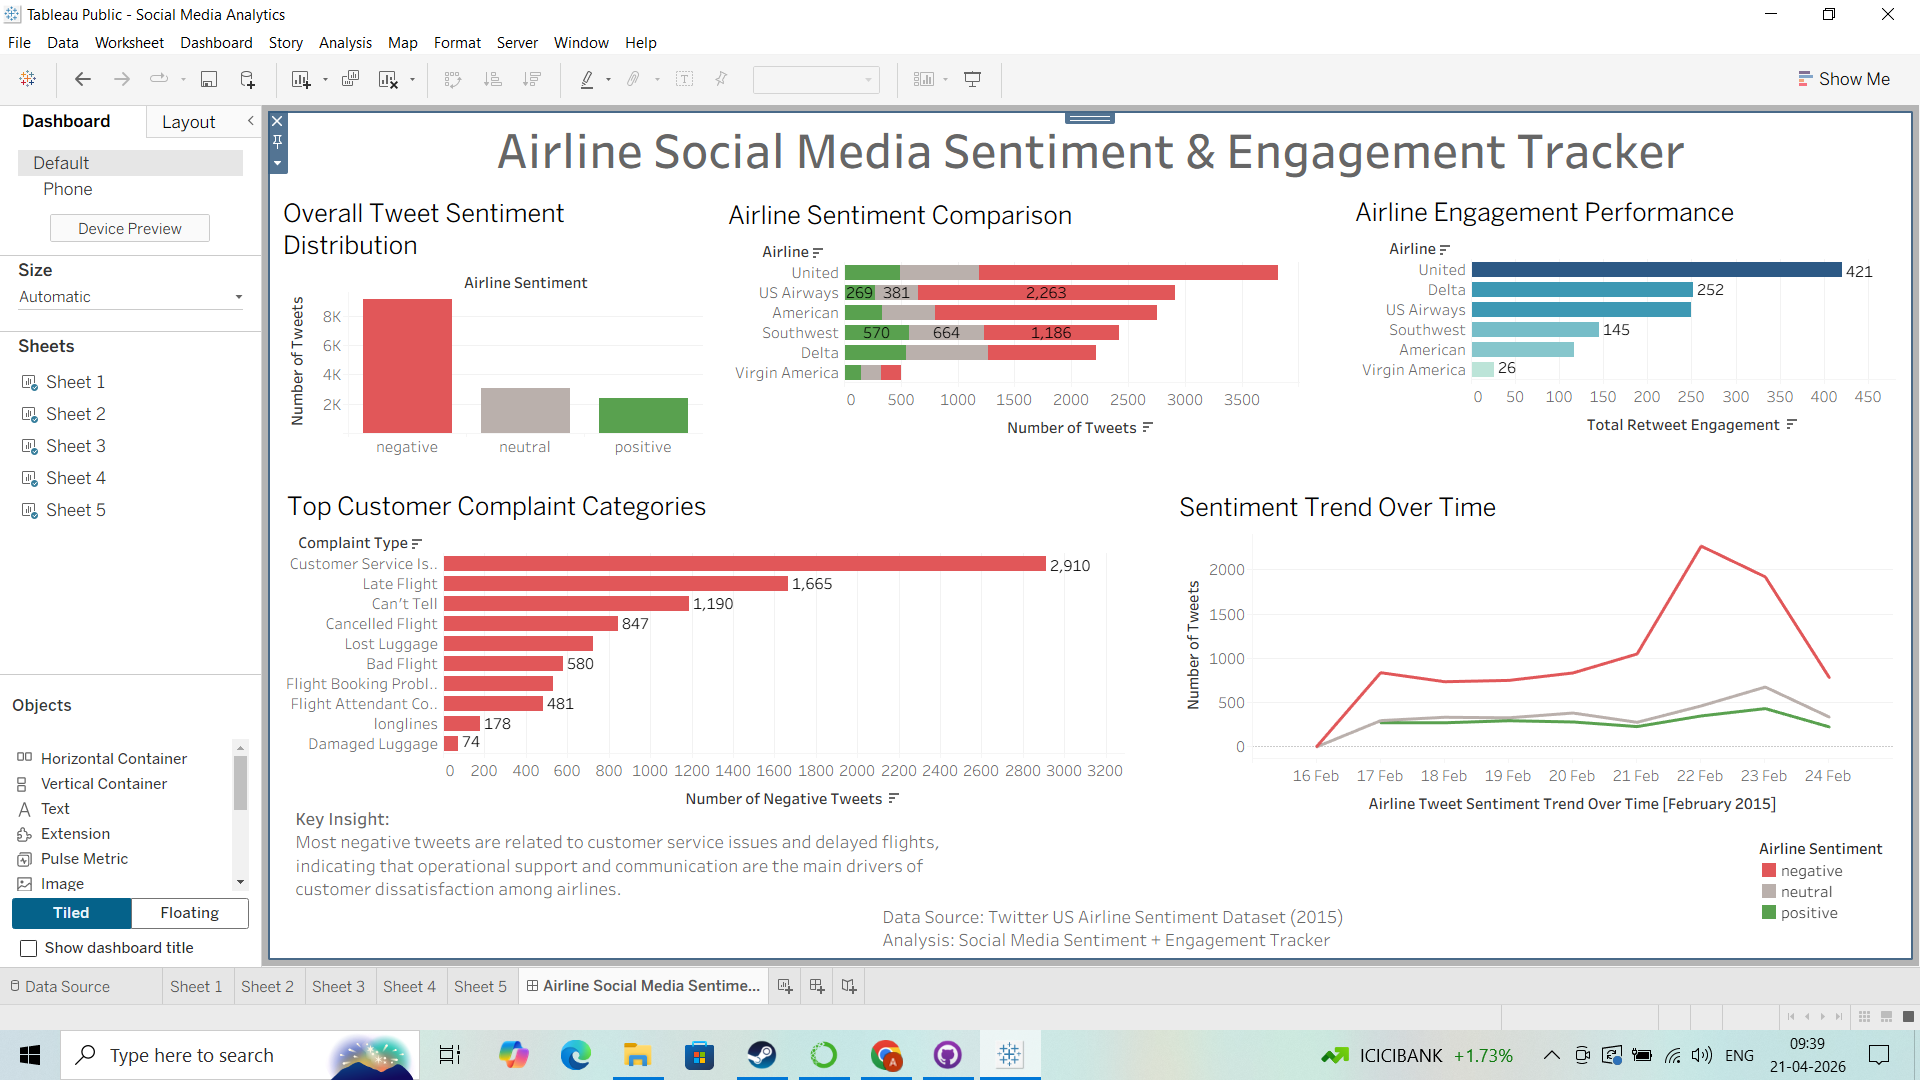

What the dashboard file says about the page in this screenshot:
{"tool":"tableau","page":{"name":"Airline Social Media Sentiment Dashboard","canvas":[1000,1000],"units":"permille","ordinal":0},"visuals":[{"type":"text","box":[139.4,10.5,725.4,82.5]},{"type":"worksheet","title":"Sheet 5","mark":"Automatic","rows":["airline"],"cols":["retweet_count"],"box":[657,101,329.1,322.9]},{"type":"worksheet","title":"Sheet 1","mark":"Automatic","rows":["final_airline_sentiment_dataset.csv_C5E6F2089A874854BD9A631C"],"cols":["airline_sentiment"],"box":[10.3,102.2,255.9,307.8]},{"type":"worksheet","title":"Sheet 2","mark":"Automatic","rows":["airline"],"cols":["final_airline_sentiment_dataset.csv_C5E6F2089A874854BD9A631C"],"box":[278.9,104.5,347.9,317.1]},{"type":"worksheet","title":"Sheet 3","mark":"Automatic","rows":["negativereason"],"cols":["final_airline_sentiment_dataset.csv_C5E6F2089A874854BD9A631C"],"box":[12.7,442.5,508.2,440.2]},{"type":"worksheet","title":"Sheet 4","mark":"Automatic","rows":["final_airline_sentiment_dataset.csv_C5E6F2089A874854BD9A631C"],"cols":["date"],"box":[551,443.7,433.3,387.9]},{"type":"text","box":[18.1,811.9,401.9,117.3]},{"type":"legend","title":"Sheet 1","param":"[federated.029oyo90nyqydt18fmxwg1btv8v9 (copy)].[none:airline_sentiment:nk]","box":[903.4,851.3,84.5,127.8]},{"type":"text","box":[372.4,928,283,55.8]}]}

Visuals, with their boxes on the dashboard's canvas, which has no fixed pixel size, in thousandths of its width and height (x1, y1, x2, y2). These are canvas units, not pixel positions in the 1920x1080 screenshot, which may show the page scaled, cropped or inside an application window:
text: pyautogui.locateOnScreen(139, 10, 865, 93)
"Sheet 5" worksheet: pyautogui.locateOnScreen(657, 101, 986, 424)
"Sheet 1" worksheet: pyautogui.locateOnScreen(10, 102, 266, 410)
"Sheet 2" worksheet: pyautogui.locateOnScreen(279, 104, 627, 422)
"Sheet 3" worksheet: pyautogui.locateOnScreen(13, 442, 521, 883)
"Sheet 4" worksheet: pyautogui.locateOnScreen(551, 444, 984, 832)
text: pyautogui.locateOnScreen(18, 812, 420, 929)
"Sheet 1" legend: pyautogui.locateOnScreen(903, 851, 988, 979)
text: pyautogui.locateOnScreen(372, 928, 655, 984)
